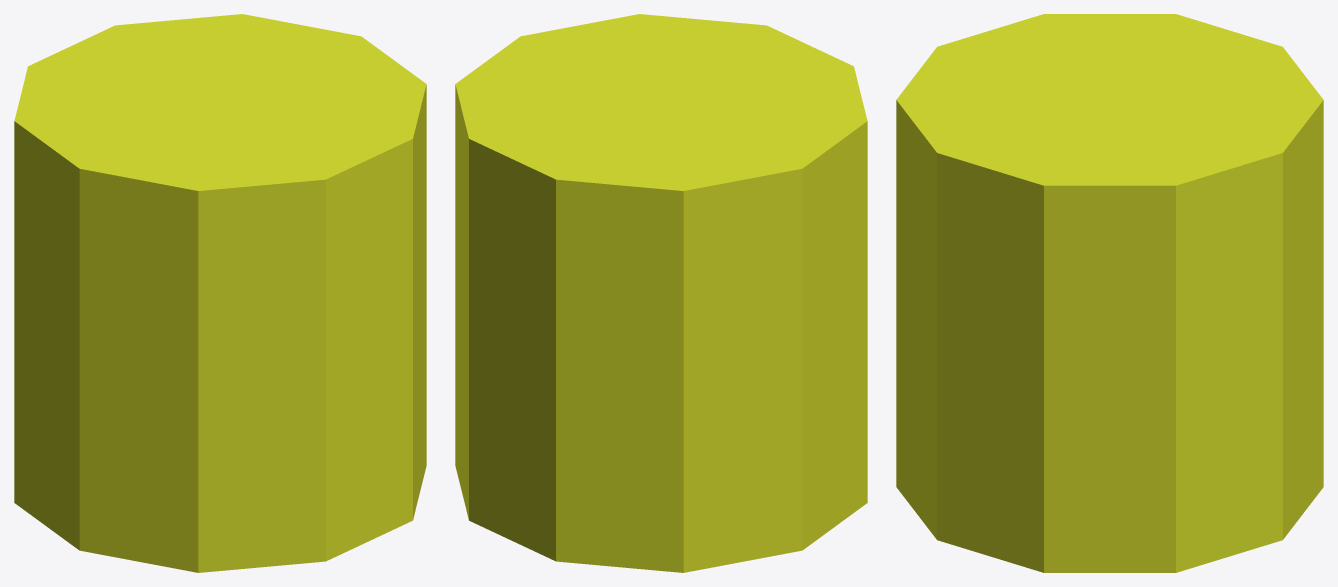
The model's file is SM_Enemy_Archer.fbx.
The picture shows the model from 3 angles, left to right: view 1: azimuth 30°, elevation 25°; view 2: azimuth 150°, elevation 25°; view 3: azimuth 270°, elevation 25°; orthographic projection.
Visible parts, largest first — view 1: SM_Enemy_Archer; view 2: SM_Enemy_Archer; view 3: SM_Enemy_Archer.
Boxes of the visible parts, x1,y1,x2,y2 form: SM_Enemy_Archer: (14,14,426,572); SM_Enemy_Archer: (455,14,867,572); SM_Enemy_Archer: (896,14,1323,572).
Size of the model in its own units: 0.1674 by 0.176 by 0.176.
